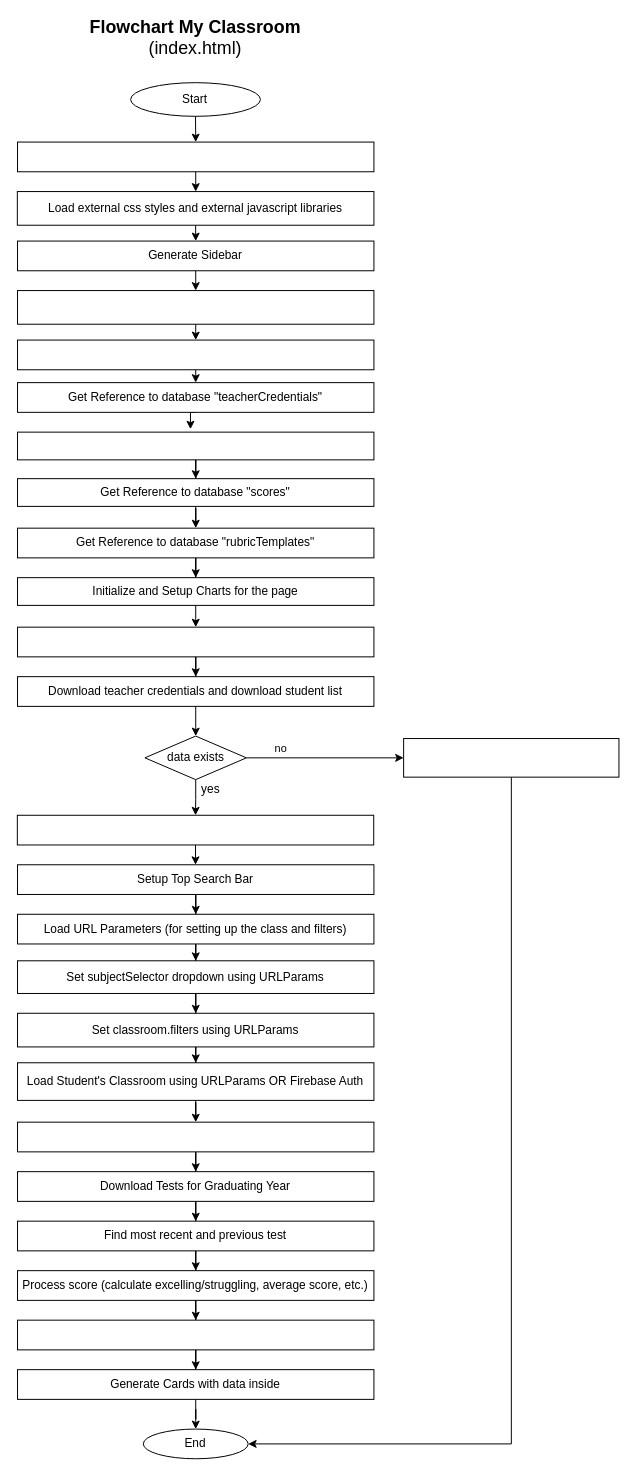
Image size: 637x1476. Some labels were removed from this diagram. Each missing label, with the centre of its shape:
Check user Credentials: point (195, 641)
Download Student List for the Classroom: point (195, 829)
Generate Colorful Charts: point (195, 1334)
Get Reference to database "studentList": point (195, 354)
Get Reference to database "tests": point (195, 445)
Initialize Firebase with configurations: point (195, 307)
Load index.html elements and contents: point (195, 156)
Load students From Classroom: point (195, 1136)
welcomeNewTeacherCredentials(): point (511, 757)
